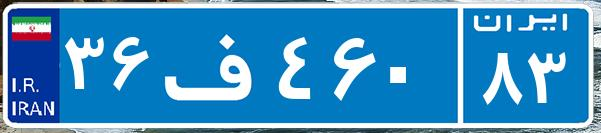0: (385, 28, 445, 110)
3: (57, 26, 110, 107), (525, 38, 570, 115)
4: (273, 28, 330, 110)
6: (330, 28, 385, 110), (110, 28, 158, 105)
8: (475, 38, 525, 113)
ف: (158, 15, 273, 115)
